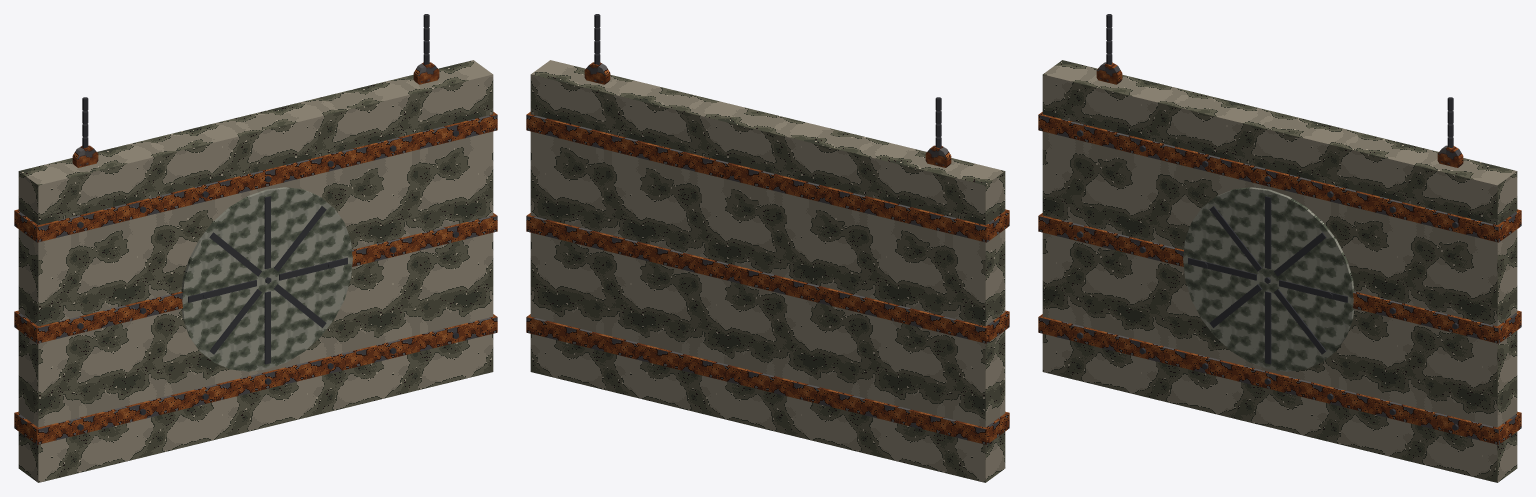
File: ANC_SealSlab.glb
The picture shows the model from 3 angles, left to right: view 1: azimuth 30°, elevation 25°; view 2: azimuth 150°, elevation 25°; view 3: azimuth 330°, elevation 25°; orthographic projection.
Parts seen in each view (by area): view 1: Slab, Disc, Band, Band.002, Band.001, Spoke.001, Spoke.005; view 2: Slab, Band.001, Band, Band.002; view 3: Slab, Disc, Band, Band.002, Band.001, Spoke.003, Spoke.007.
Part boxes in pixels (x1,y1,x2,y2): Slab: (18,60,493,482); Disc: (181,187,352,371); Band: (14,314,497,444); Band.002: (14,112,497,242); Band.001: (14,213,497,343); Spoke.001: (274,206,326,271); Spoke.005: (209,289,261,354); Slab: (530,60,1005,482); Band.001: (526,213,1009,343); Band: (526,314,1009,444); Band.002: (526,112,1009,242); Slab: (1042,60,1517,482); Disc: (1183,187,1354,371); Band: (1038,314,1521,444); Band.002: (1038,112,1521,242); Band.001: (1038,213,1521,343); Spoke.003: (1274,289,1326,354); Spoke.007: (1209,206,1261,271).
Bounding box in the file's own units: 8.1 × 6.11 × 0.74.
4 materials, 3 textured.
